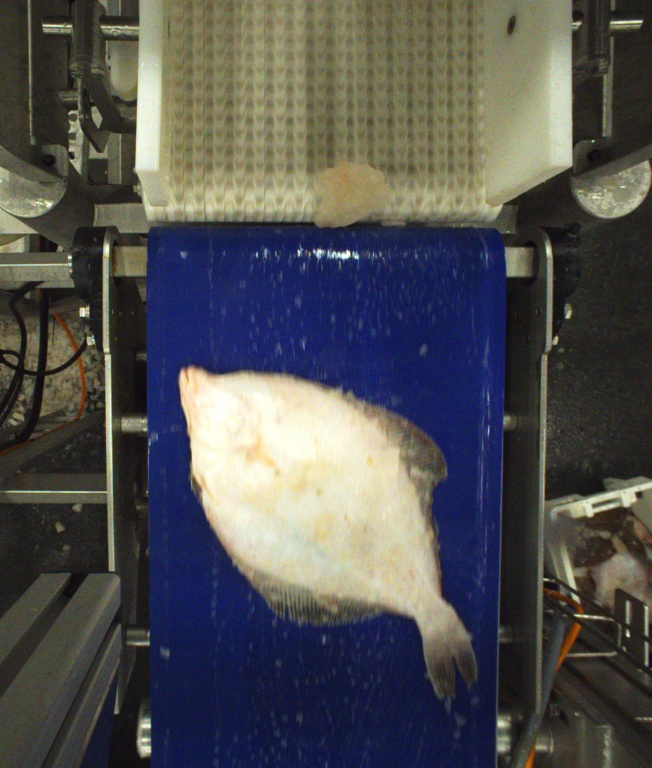PLE: (178, 365, 479, 704)
